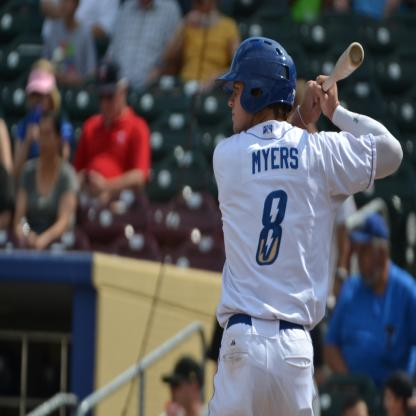Helmet: (221, 36, 306, 122)
